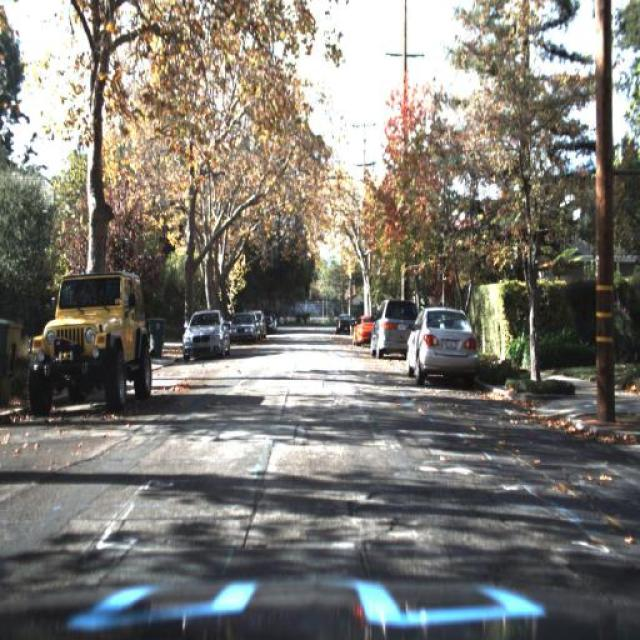car: (26, 264, 150, 415), (402, 302, 482, 388), (402, 302, 481, 379), (370, 294, 420, 354), (366, 294, 406, 365), (181, 305, 228, 355), (228, 307, 262, 343), (348, 312, 376, 350)
